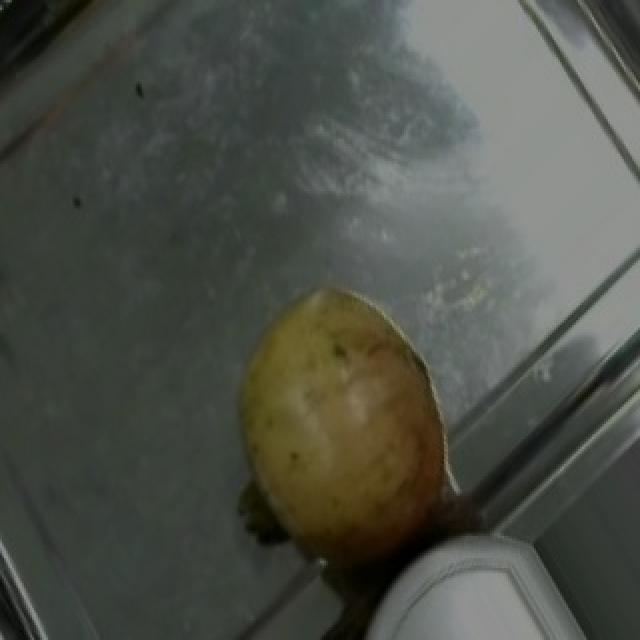fruit: (204, 255, 478, 531), (364, 496, 604, 640)
